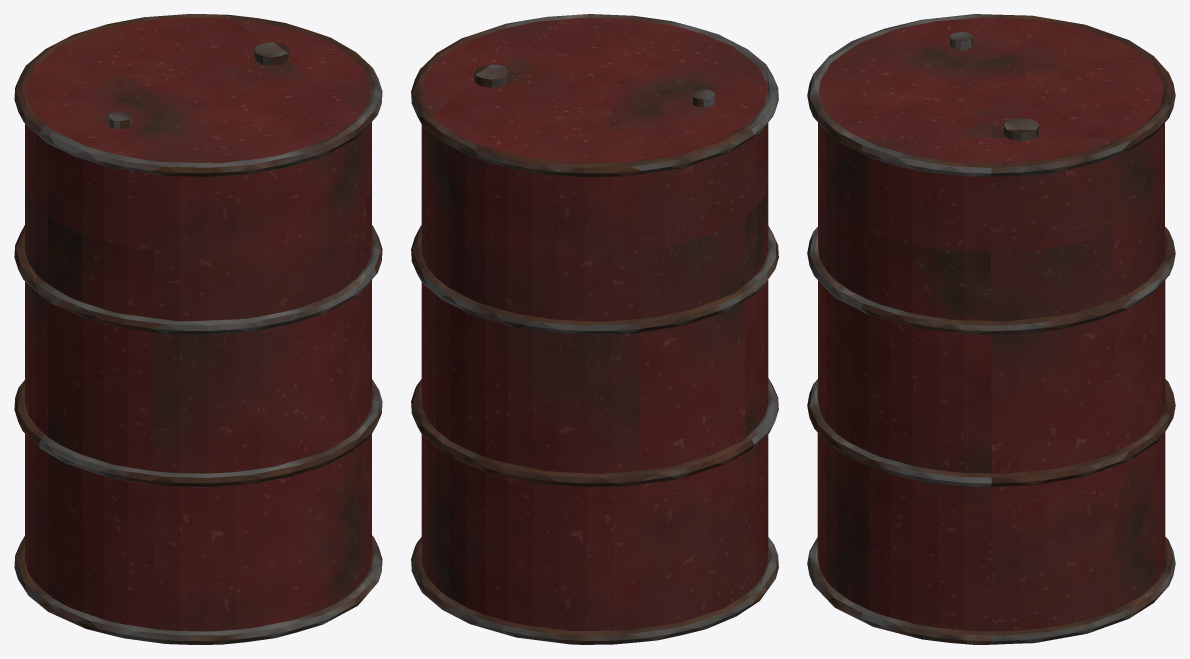
The model's file is F09_rusty_oil_barrel.glb.
3 views of the same model, side by side, from view 1: azimuth 30°, elevation 25°; view 2: azimuth 150°, elevation 25°; view 3: azimuth 270°, elevation 25° (orthographic).
Parts seen in each view (by area): view 1: F09_rusty_oil_barrel; view 2: F09_rusty_oil_barrel; view 3: F09_rusty_oil_barrel.
Part boxes in pixels (<box>): F09_rusty_oil_barrel: <box>14,14,382,644</box>; F09_rusty_oil_barrel: <box>411,14,778,644</box>; F09_rusty_oil_barrel: <box>807,14,1175,644</box>.
Bounding box in the file's own units: 0.6161 × 0.9 × 0.6161.
2 materials, 2 textured.
